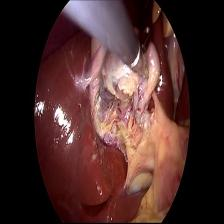Grasper: (131, 19, 158, 83)
